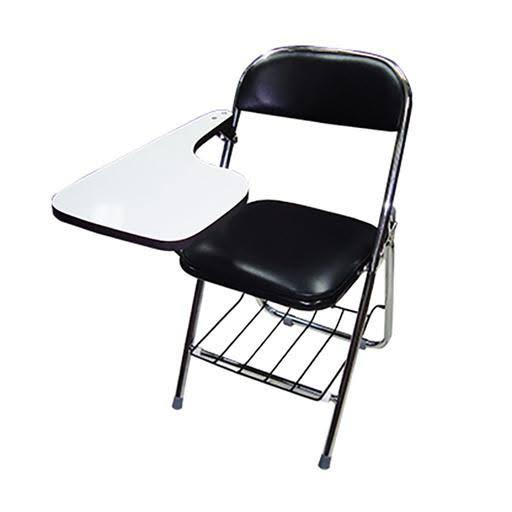kursi: (47, 41, 416, 470)
